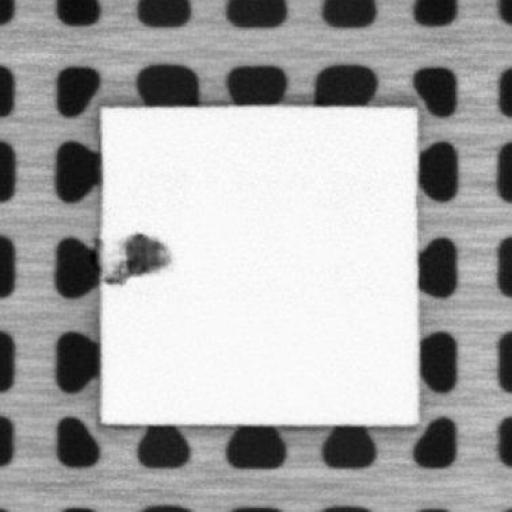DIE_INK: (100, 230, 171, 286)
